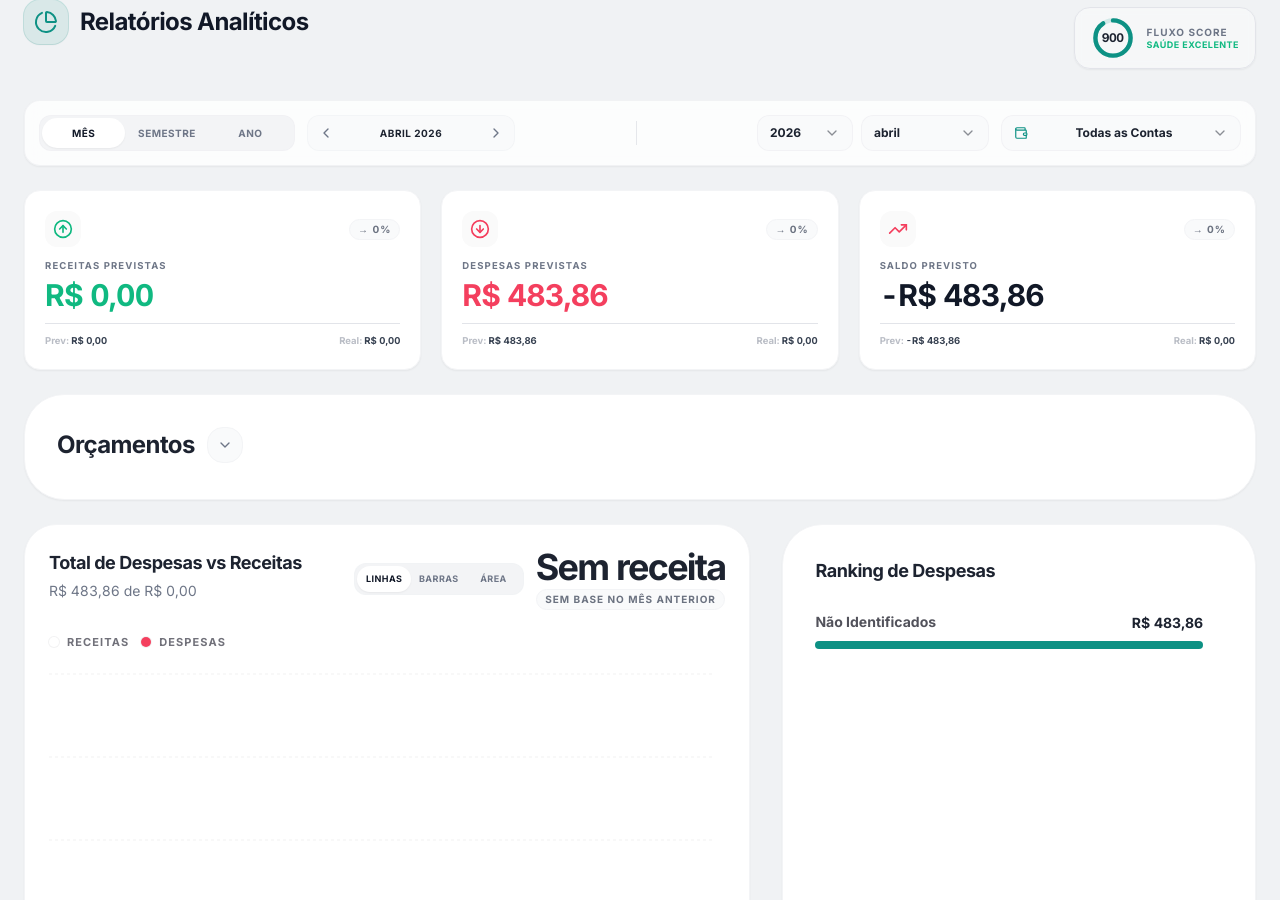
it: ReportsDashboard - categoria de acordo › usa bucket canonico de Renegociacao e respeita Projetado x Realizado na Analise de Categoria
Click the button with test id "category-ranking-bar-".
click(876, 621)  # box [807,604,1211,656]
(page scrolled)
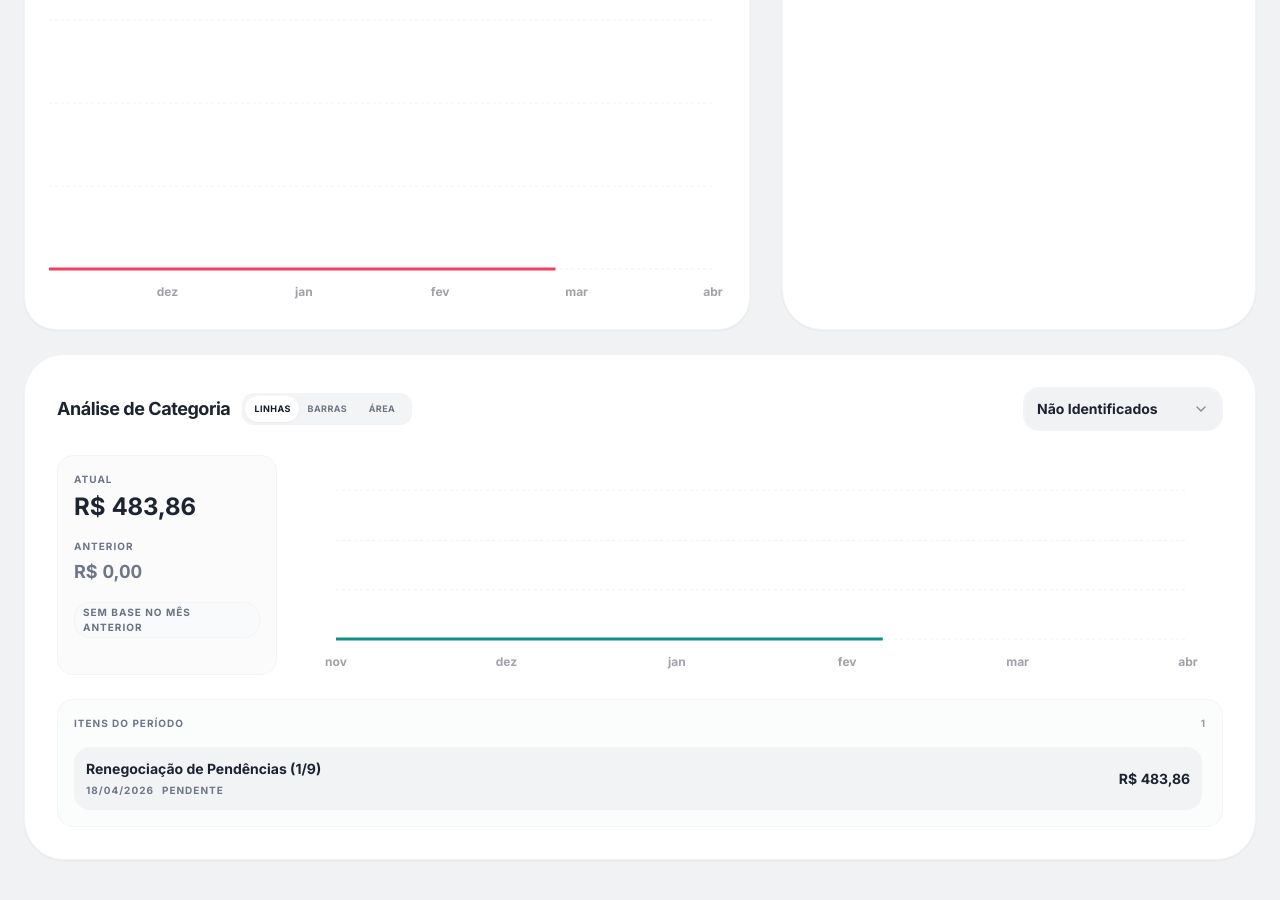
Expected: the text "R$ 483,86" below "Atual" is shown, [74,492,196,521]
